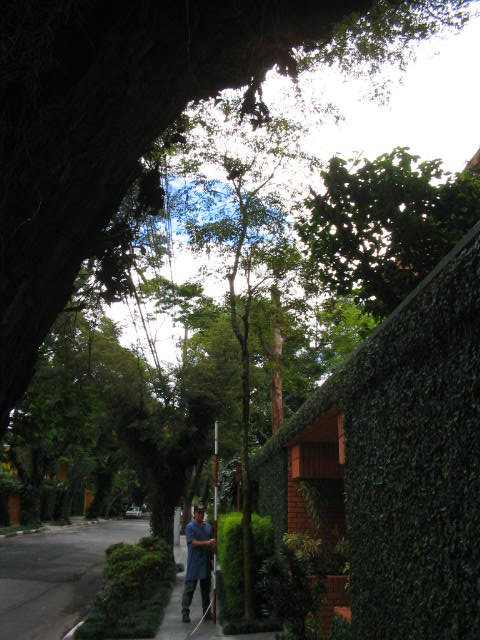stem: (228, 351, 277, 620)
stick: (205, 420, 224, 623)
tree: (224, 149, 285, 623)
